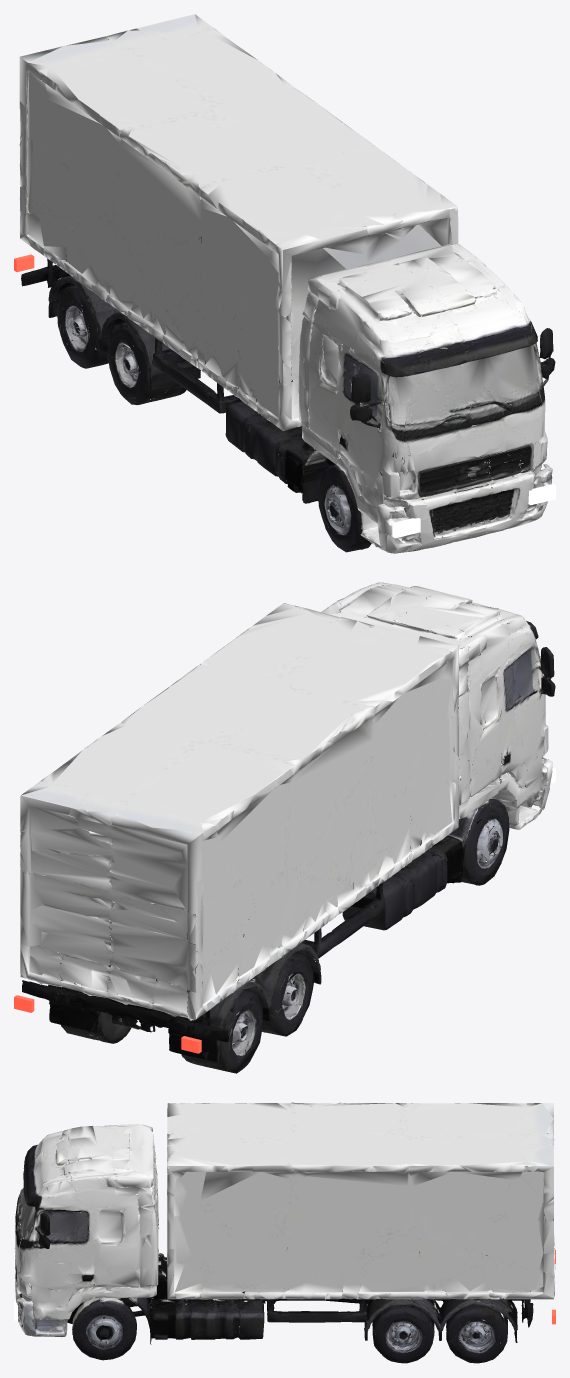
The model's file is box-truck.glb.
3 renders of one model, top to bottom at view 1: azimuth 30°, elevation 25°; view 2: azimuth 150°, elevation 25°; view 3: azimuth 270°, elevation 25°, orthographic. The views are drawn at different scales.
Visible parts, largest first — view 1: body, wheel_rear1, wheel_front, wheel_rear2; view 2: body, wheel_rear2, wheel_front, wheel_rear1; view 3: body, wheel_front, wheel_rear1, wheel_rear2.
Boxes of the visible parts, box(x1,y1,x2,y2) form: body: box(19, 14, 555, 553); wheel_rear1: box(107, 322, 182, 404); wheel_front: box(318, 456, 480, 552); wheel_rear2: box(56, 282, 108, 368); body: box(20, 582, 555, 1064); wheel_rear2: box(61, 990, 262, 1073); wheel_front: box(461, 798, 509, 885); wheel_rear1: box(262, 950, 315, 1036); body: box(14, 1102, 555, 1351); wheel_front: box(72, 1297, 136, 1360); wheel_rear1: box(372, 1305, 434, 1363); wheel_rear2: box(446, 1301, 507, 1363).
Size of the model in its own units: 2.6 by 3.28 by 8.03.
5 materials, 1 textured.
